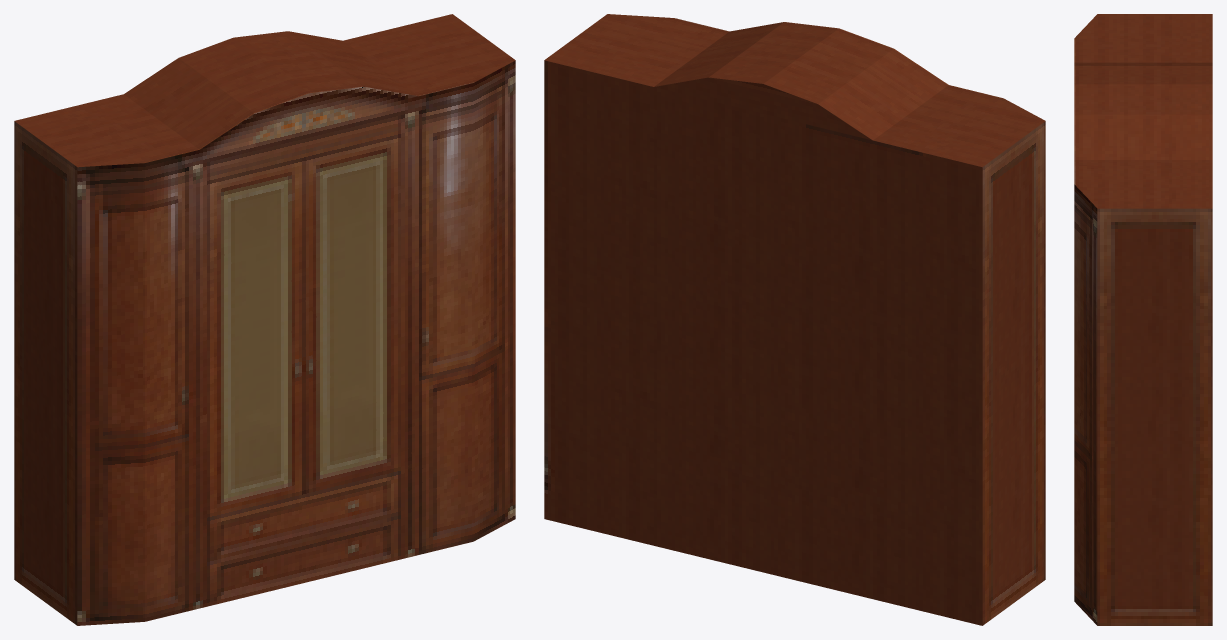
Rendered from wardrobe.glb.
3 renders of one model, left to right at view 1: azimuth 30°, elevation 25°; view 2: azimuth 150°, elevation 25°; view 3: azimuth 270°, elevation 25°, orthographic. The views are drawn at different scales.
Visible parts, largest first — view 1: wardrobe; view 2: wardrobe; view 3: wardrobe.
Part boxes in pixels (<box>): wardrobe: <box>14,14,515,625</box>; wardrobe: <box>544,14,1045,625</box>; wardrobe: <box>1074,14,1212,625</box>.
Size of the model in its own units: 2 by 2.13 by 0.6.
Materials: 1 (1 with a texture image).
